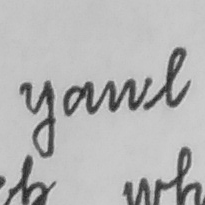a: (61, 78, 97, 119)
l: (162, 44, 193, 109)
w: (104, 75, 153, 112)
y: (16, 77, 57, 160)
